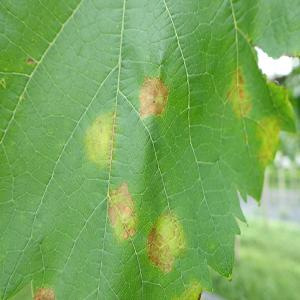Folha: (0, 0, 298, 299)
Fungo: (146, 211, 186, 275), (107, 180, 139, 244), (84, 110, 116, 169), (138, 75, 170, 120), (226, 66, 252, 118), (258, 115, 280, 166), (170, 278, 202, 300), (120, 206, 138, 240), (33, 286, 55, 299), (27, 57, 35, 65)
